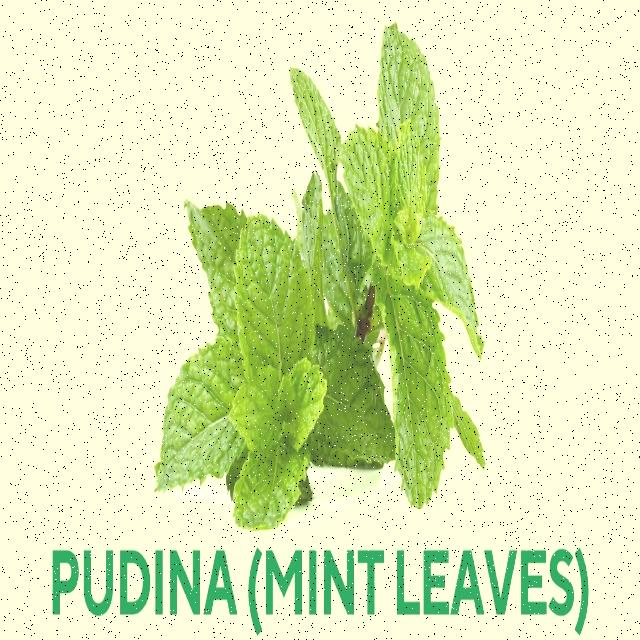Green Mint: (282, 37, 500, 482), (126, 199, 372, 506)
